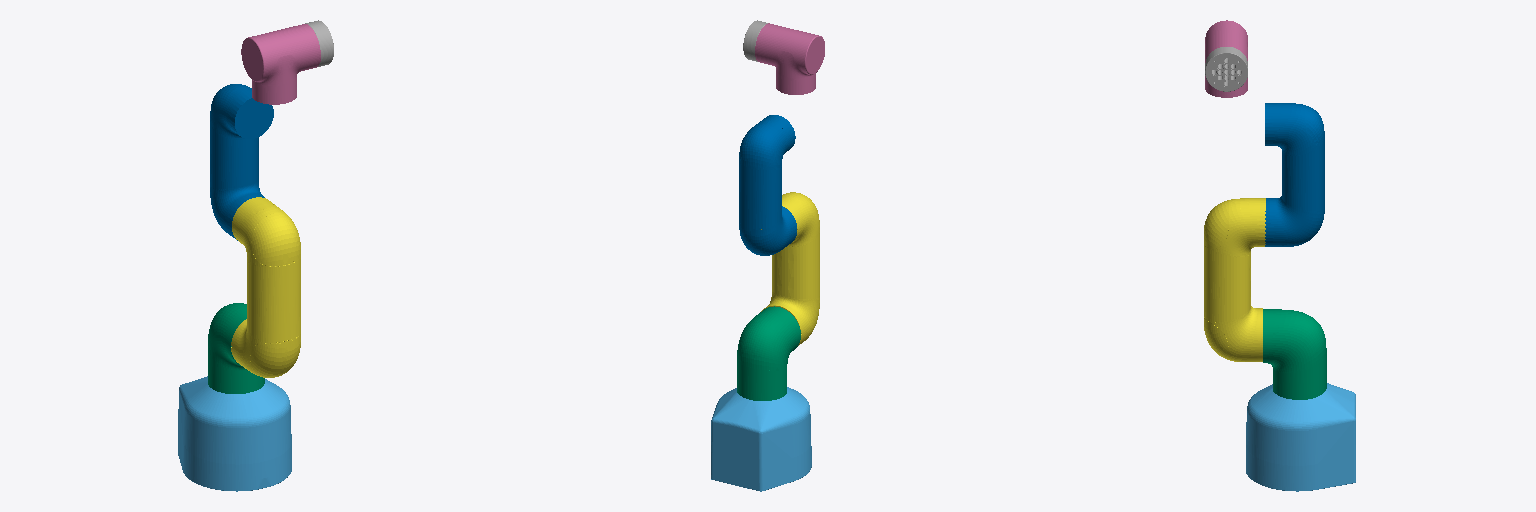
robot.urdf — mycobot_ai:
<?xml version="1.0"?>
<robot xmlns:xacro="http://www.ros.org/wiki/xacro" name="mycobot_ai">


  <link name="env">
    <visual>
      <geometry>
        <!--- 0.0 0 -0.04  1.5708 3.14159-->
        <mesh filename="package://mycobot_description/urdf/mycobot_280_pi/suit_env.dae"/>
      </geometry>
      <origin xyz = "0 0 -0.02 " rpy = "1.5708 0 -1.5708"/>
    </visual>
  </link>

  <link name="joint1">
    <visual>
      <geometry>
        <!--- 0.0 0 -0.04  1.5708 3.14159-->
        <mesh filename="package://mycobot_description/urdf/mycobot_280_pi/joint1.dae"/>
      </geometry>
      <origin xyz = "0.0 0 0 " rpy = " 0 0 -1.5708"/>
    </visual>
    <collision>
      <geometry>
        <!--- 0.0 0 -0.04  1.5708 3.14159-->
        <mesh filename="package://mycobot_description/urdf/mycobot_280_pi/joint1.dae"/>
      </geometry>
      <origin xyz = "0.0 0 0 " rpy = " 0 0 -1.5708"/>
    </collision>
  </link>

  <link name="joint2">
    <visual>
      <geometry>
        <mesh filename="package://mycobot_description/urdf/mycobot_280_pi/joint2.dae"/>
      </geometry>
      <origin xyz = "0.0 0 -0.06096 " rpy = " 0 0 -1.5708"/>
    </visual>
    <collision>
      <geometry>
        <mesh filename="package://mycobot_description/urdf/mycobot_280_pi/joint2.dae"/>
      </geometry>
      <origin xyz = "0.0 0 -0.06096 " rpy = " 0 0 -1.5708"/>
    </collision>
  </link>


  <link name="joint3">
    <visual>
      <geometry>
        <mesh filename="package://mycobot_description/urdf/mycobot_280_pi/joint3.dae"/>
      </geometry>
      <origin xyz = "0.0 0 0.03256 " rpy = " 0 -1.5708 0"/>
    </visual>
    <collision>
      <geometry>
        <mesh filename="package://mycobot_description/urdf/mycobot_280_pi/joint3.dae"/>
      </geometry>
      <origin xyz = "0.0 0 0.03256 " rpy = " 0 -1.5708 0"/>
    </collision>
  </link>


  <link name="joint4">
    <visual>
      <geometry>
        <!--- 0.0 0 -0.04 -->
        <mesh filename="package://mycobot_description/urdf/mycobot_280_pi/joint4.dae"/>
      </geometry>
      <origin xyz = "0.0 0 0.03056 " rpy = " 0 -1.5708 0"/>
    </visual>
    <collision>
      <geometry>
        <!--- 0.0 0 -0.04 -->
        <mesh filename="package://mycobot_description/urdf/mycobot_280_pi/joint4.dae"/>
      </geometry>
      <origin xyz = "0.0 0 0.03056 " rpy = " 0 -1.5708 0"/>
    </collision>
  </link>


  <link name="joint5">
    <visual>
      <geometry>
        <!--- 0.0 0 -0.04 -->
        <mesh filename="package://mycobot_description/urdf/mycobot_280_pi/joint5.dae"/>
      </geometry>
      <origin xyz = "0.0 0 -0.03356 " rpy = "-1.5708 0 0"/>
    </visual>
    <collision>
      <geometry>
        <!--- 0.0 0 -0.04 -->
        <mesh filename="package://mycobot_description/urdf/mycobot_280_pi/joint5.dae"/>
      </geometry>
      <origin xyz = "0.0 0 -0.03356 " rpy = "-1.5708 0 0"/>
    </collision>
  </link>


  <link name="joint6">
    <visual>
      <geometry>
        <!--- 0.0 0 -0.04 -->
        <mesh filename="package://mycobot_description/urdf/mycobot_280_pi/joint6.dae"/>
      </geometry>
      <origin xyz = "0 0.00 -0.038 " rpy = " 0 0 0"/>
    </visual>
    <collision>
      <geometry>
        <!--- 0.0 0 -0.04 -->
        <mesh filename="package://mycobot_description/urdf/mycobot_280_pi/joint6.dae"/>
      </geometry>
      <origin xyz = "0 0.00 -0.038 " rpy = " 0 0 0"/>
    </collision>
  </link>


  <link name="joint6_flange">
    <visual>
      <geometry>
        <!--- 0.0 0 -0.04 -->
        <mesh filename="package://mycobot_description/urdf/mycobot_280_pi/joint7.dae"/>
      </geometry>
      <origin xyz = "0.0 0 -0.012 " rpy = " 0 0 0"/>
    </visual>
    <collision>
      <geometry>
        <!--- 0.0 0 -0.04 -->
        <mesh filename="package://mycobot_description/urdf/mycobot_280_pi/joint7.dae"/>
      </geometry>
      <origin xyz = "0.0 0 -0.012 " rpy = " 0 0 0"/>
    </collision>
  </link>





  <joint name="joint2_to_joint1" type="revolute">
    <axis xyz="0 0 1"/>
    <limit effort = "1000.0" lower = "-3.14" upper = "3.14159" velocity = "0"/>
    <parent link="joint1"/>
    <child link="joint2"/>
    <origin xyz= "0 0 0.13156" rpy = "0 0 0"/>
  </joint>

  <joint name="joint3_to_joint2" type="revolute">
    <axis xyz="0 0 1"/>
    <limit effort = "1000.0" lower = "-3.14" upper = "3.14159" velocity = "0"/>
    <parent link="joint2"/>
    <child link="joint3"/>
    <origin xyz= "0 0  0" rpy = "0 1.5708 -1.5708"/>
  </joint>


  <joint name="joint4_to_joint3" type="revolute">
    <axis xyz=" 0 0 1"/>
    <limit effort = "1000.0" lower = "-3.14" upper = "3.14159" velocity = "0"/>
    <parent link="joint3"/>
    <child link="joint4"/>
    <origin xyz= "  -0.1104 0 0   " rpy = "0 0 0"/>
  </joint>



  <joint name="joint5_to_joint4" type="revolute">
    <axis xyz=" 0 0 1"/>
    <limit effort = "1000.0" lower = "-3.14" upper = "3.14159" velocity = "0"/>
    <parent link="joint4"/>
    <child link="joint5"/>
    <origin xyz= "-0.096 0 0.06462" rpy = "0 0 -1.5708"/>
  </joint>

  <joint name="joint6_to_joint5" type="revolute">
    <axis xyz="0 0 1"/>
    <limit effort = "1000.0" lower = "-3.14" upper = "3.14159" velocity = "0"/>
    <parent link="joint5"/>
    <child link="joint6"/>
    <origin xyz= "0 -0.07318 0" rpy = "1.5708 -1.5708 0"/>
  </joint>

  <joint name="joint6output_to_joint6" type="revolute">
    <axis xyz="0 0 1"/>
    <limit effort = "1000.0" lower = "-3.14" upper = "3.14159" velocity = "0"/>
    <parent link="joint6"/>
    <child link="joint6_flange"/>
    <origin xyz= "0 0.0456 0" rpy = "-1.5708 0 0"/>
  </joint>

  <joint name="vision_joint" type="fixed">
    <axis xyz="0 0 0"/>
    <limit effort = "1000.0" lower = "-3.14" upper = "3.14159" velocity = "0"/>
    <parent link="joint1"/>
    <child link="env"/>
    <origin xyz= "0 0 0" rpy = "0 0 0"/>
  </joint>

</robot>


--- Render facts (derived) ---
3 views of the same robot in one strip: view 1: azimuth 30°, elevation 25°; view 2: azimuth 150°, elevation 25°; view 3: azimuth 270°, elevation 25° (orthographic).
Model mycobot_ai with 8 links and 7 joints (6 revolute, 1 fixed), rooted at joint1, posed every joint at zero.
Visible links, largest first — view 1: joint1, joint3, joint4, joint6, joint2, joint6_flange; view 2: joint1, joint4, joint3, joint2, joint6; view 3: joint1, joint3, joint4, joint2, joint6_flange, joint6.
Boxes of the visible links, x1=… form: joint1: x1=178, y1=376, x2=291, y2=491; joint3: x1=231, y1=197, x2=300, y2=377; joint4: x1=210, y1=84, x2=273, y2=240; joint6: x1=241, y1=24, x2=320, y2=104; joint2: x1=208, y1=303, x2=264, y2=393; joint6_flange: x1=305, y1=20, x2=333, y2=66; joint1: x1=711, y1=387, x2=811, y2=491; joint4: x1=739, y1=115, x2=796, y2=255; joint3: x1=761, y1=192, x2=819, y2=345; joint2: x1=737, y1=306, x2=800, y2=400; joint6: x1=755, y1=23, x2=824, y2=94; joint1: x1=1246, y1=383, x2=1355, y2=491; joint3: x1=1204, y1=198, x2=1265, y2=361; joint4: x1=1265, y1=103, x2=1324, y2=246; joint2: x1=1263, y1=309, x2=1326, y2=399; joint6_flange: x1=1205, y1=47, x2=1247, y2=91; joint6: x1=1205, y1=20, x2=1247, y2=97.
Bounding box of the posed robot: 0.0936 × 0.1358 × 0.4303 m (x, y, z).
Meshes: 8 distinct files referenced, 6 mesh visuals loaded (6 Collada DAE); not drawn: 2 (reference not matched to a file when rendering).